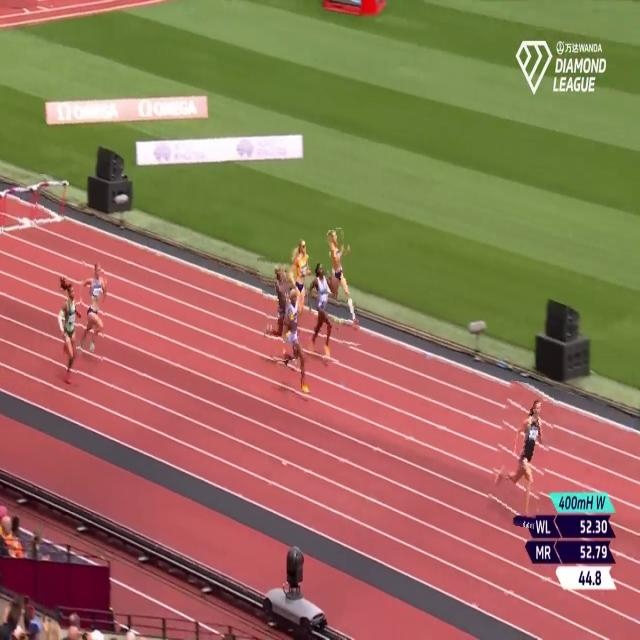athlete: (490, 382, 553, 528), (326, 229, 358, 347), (261, 254, 295, 362), (53, 268, 79, 391), (282, 282, 309, 398), (308, 259, 338, 363), (285, 228, 311, 344), (78, 259, 107, 362)
hurdle: (35, 175, 67, 229), (3, 183, 36, 235)
